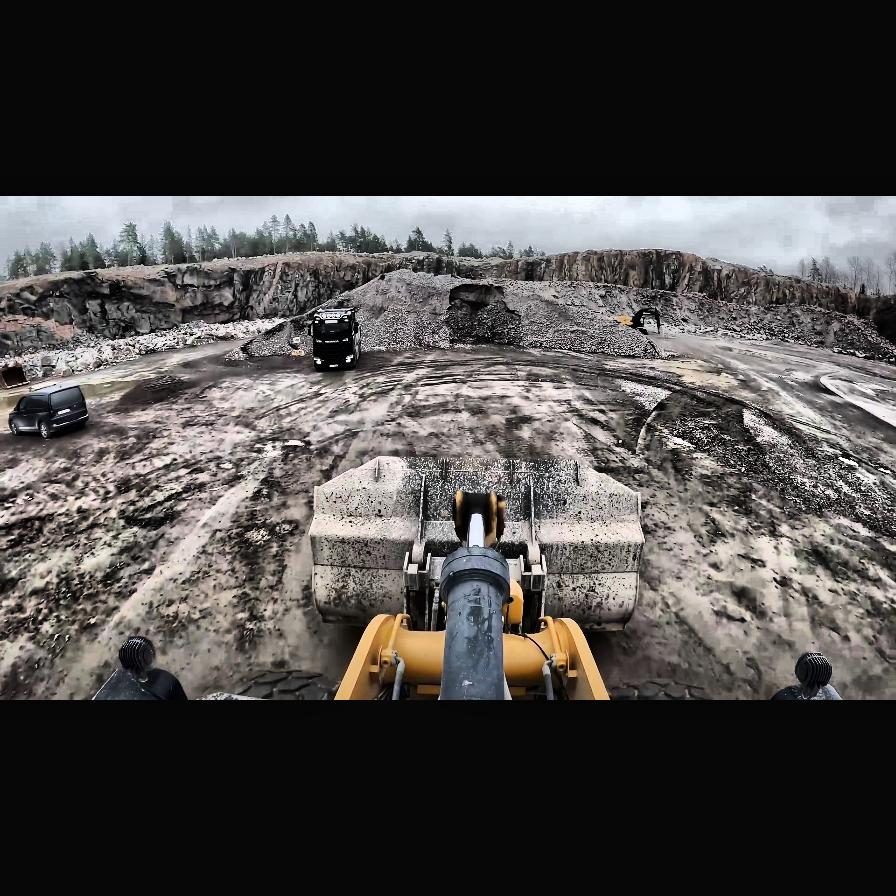anchor: (453, 490, 504, 546)
pile of gravel: (246, 267, 680, 360), (3, 336, 129, 382), (126, 324, 206, 356), (402, 250, 432, 256)
